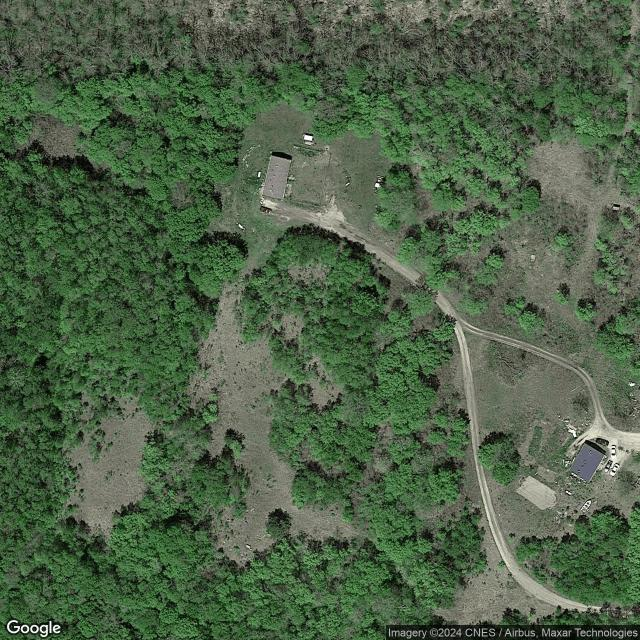Propane: (564, 489, 572, 496), (257, 170, 262, 179), (345, 181, 351, 187)
